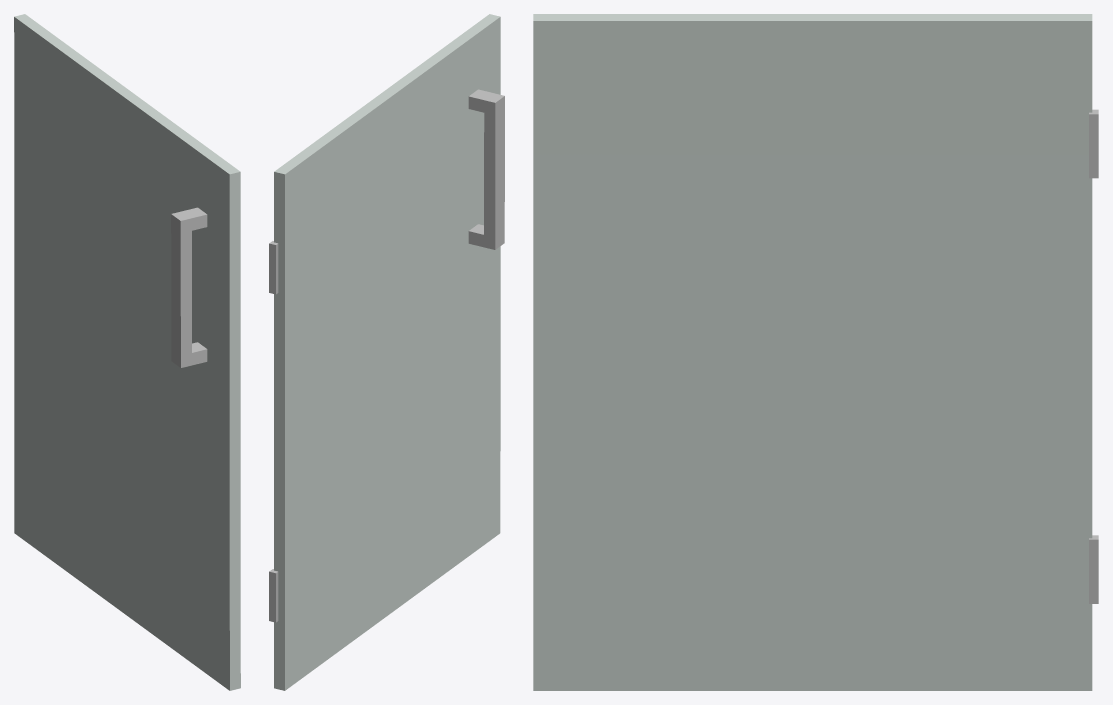
The model's file is SM_Table_Door_A_01.fbx.
3 renders of one model, left to right at view 1: azimuth 30°, elevation 25°; view 2: azimuth 150°, elevation 25°; view 3: azimuth 270°, elevation 25°, orthographic. The views are drawn at different scales.
Visible parts, largest first — view 1: SM_Table_Door_A_01; view 2: SM_Table_Door_A_01; view 3: SM_Table_Door_A_01.
Boxes of the visible parts, x1=… form: SM_Table_Door_A_01: x1=14, y1=14, x2=240, y2=690; SM_Table_Door_A_01: x1=269, y1=14, x2=504, y2=690; SM_Table_Door_A_01: x1=533, y1=14, x2=1098, y2=690.
Size of the model in its own units: 3.94 by 48.2 by 36.85.
